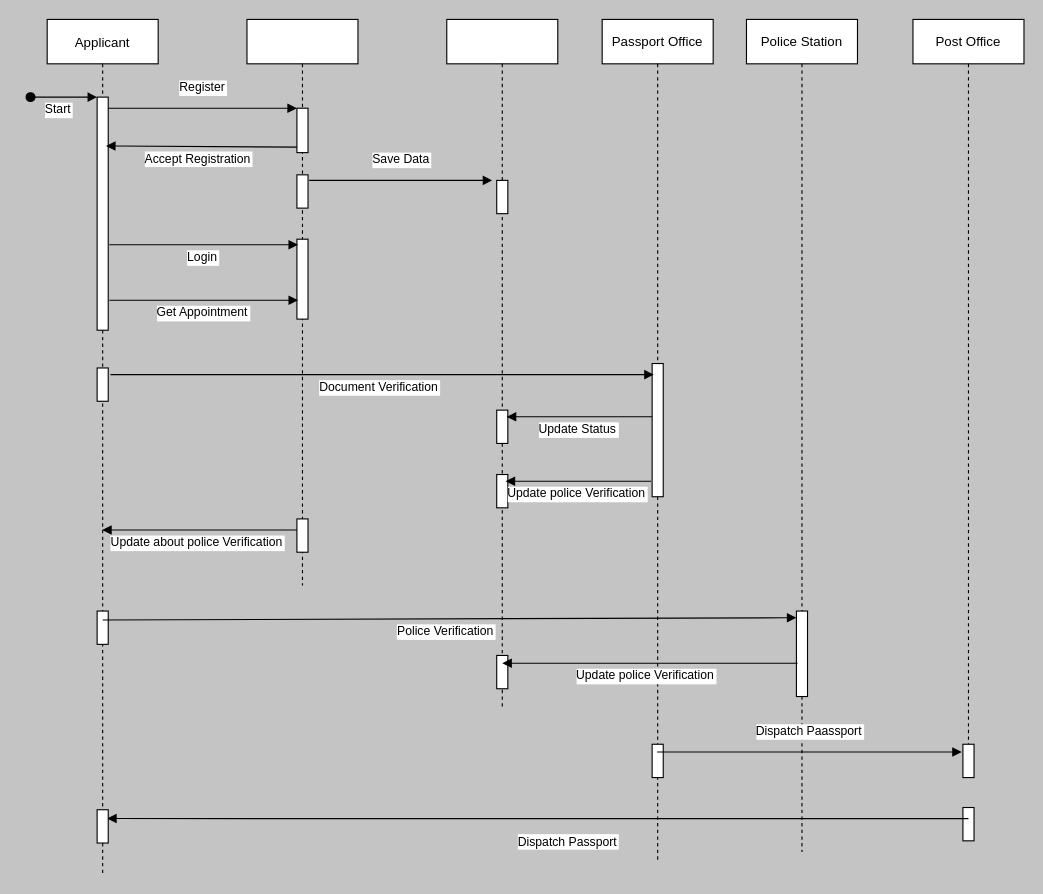
This 1043x894 diagram has some shape labels left out. Each missing label, with the box of its shape:
Database: (446, 18, 558, 708)
Online portal: (246, 18, 358, 586)
